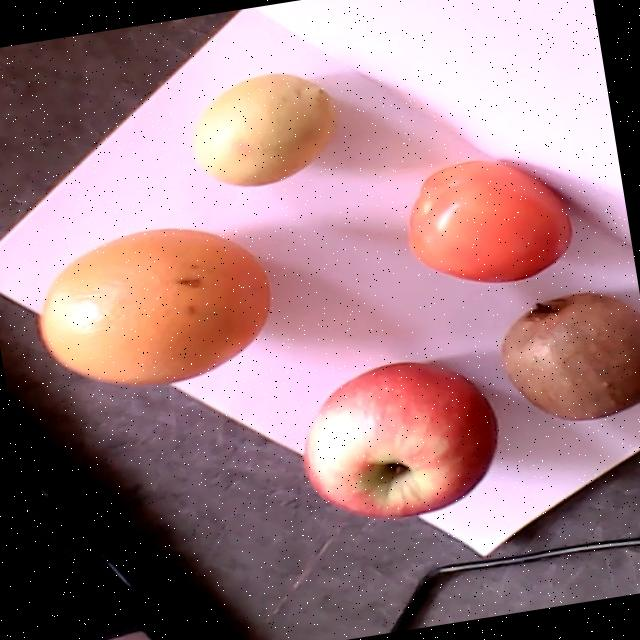apple: (303, 361, 499, 517)
kiwi: (501, 294, 640, 419)
lemon: (195, 75, 335, 185)
orange: (41, 228, 271, 384)
tomato: (410, 160, 569, 283)
